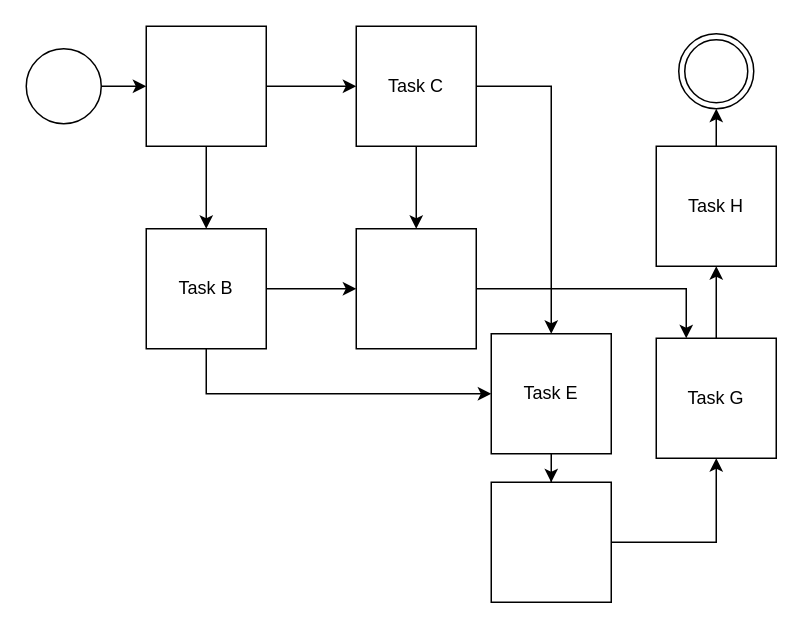
Image size: 803x629. Some labels were removed from this diagram. Each missing label, with the centre of its shape:
Task A: the point at 205,85
Task D: the point at 415,288
Task F: the point at 550,541
